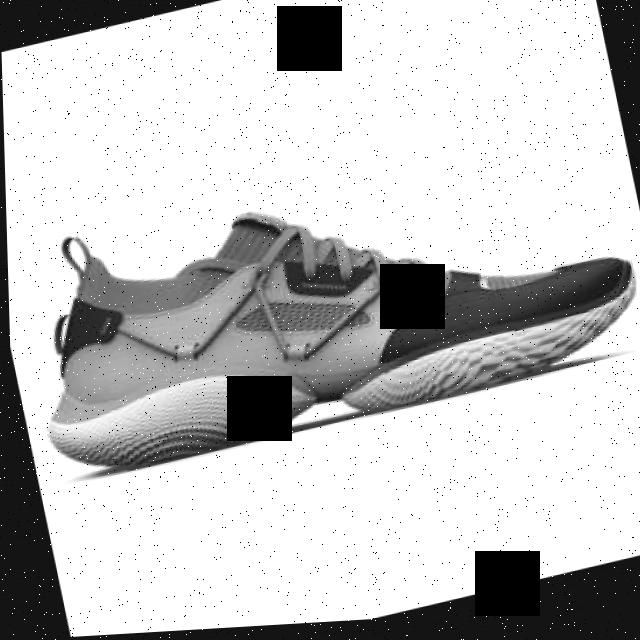shoe: (8, 118, 640, 490)
